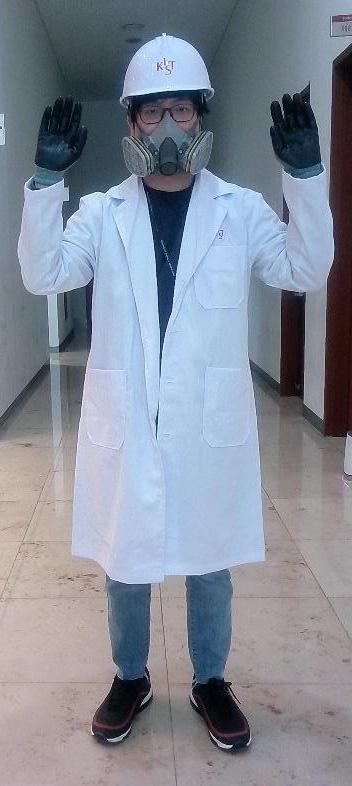lab_coat: (69, 194, 264, 576)
